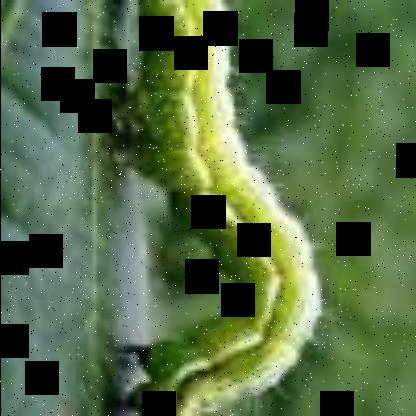oruga: (106, 0, 322, 416)
